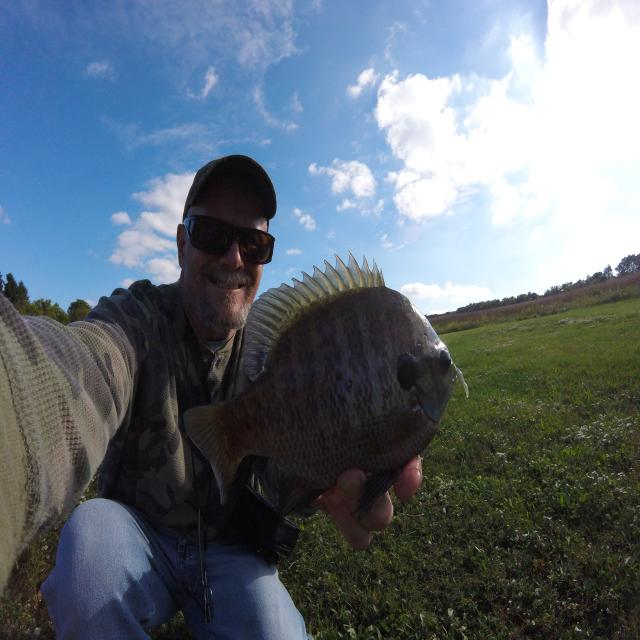Bluegill: (185, 255, 465, 518)
